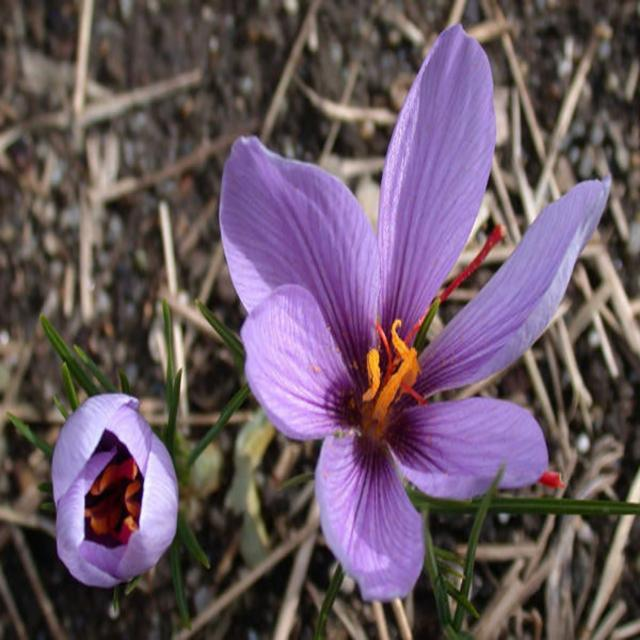Flower: (220, 28, 613, 598), (50, 392, 180, 590)
stigma: (441, 222, 509, 301)
